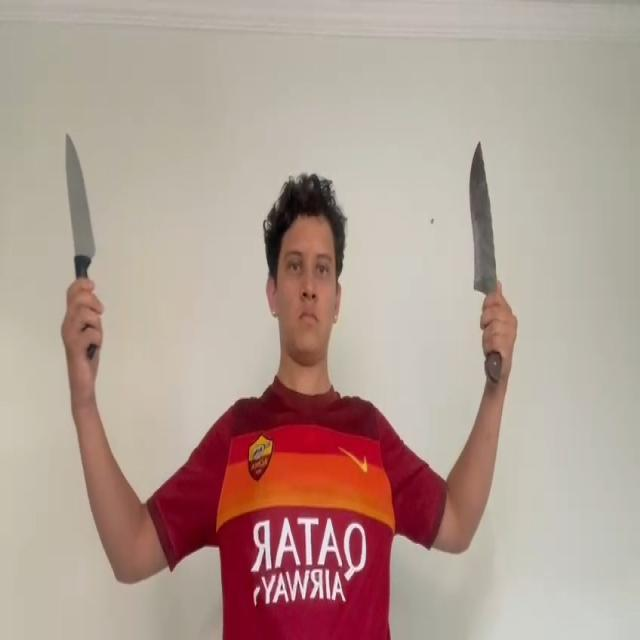knife: (468, 140, 497, 297), (66, 133, 98, 262)
